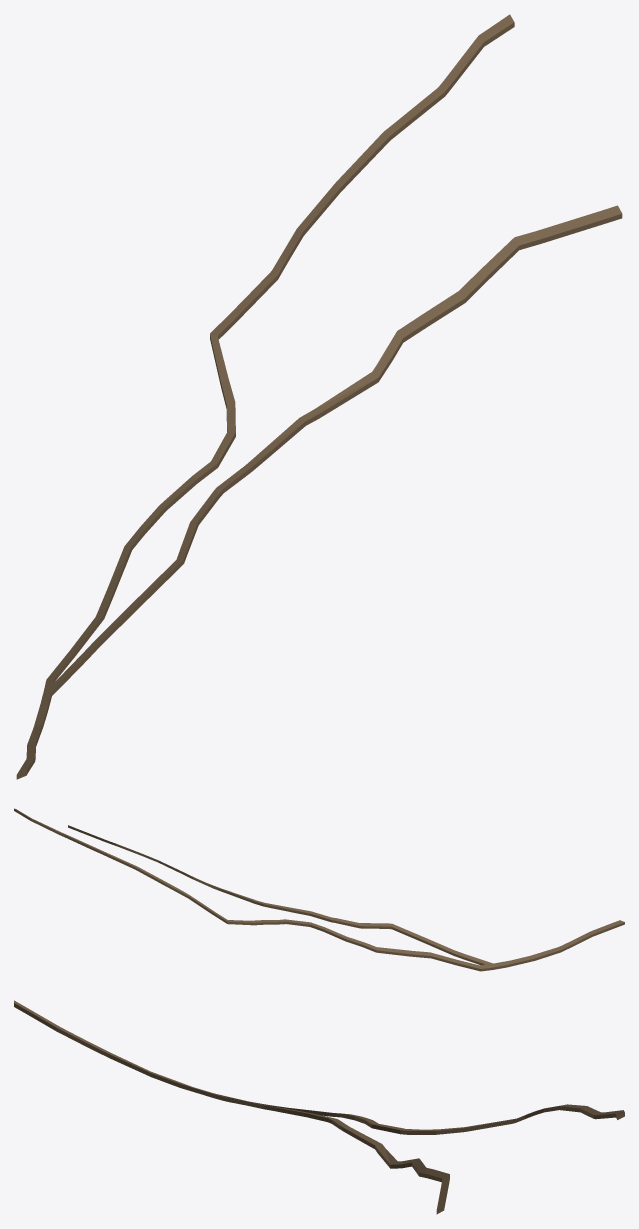
3 views of the same model, one above another, from view 1: azimuth 30°, elevation 25°; view 2: azimuth 150°, elevation 25°; view 3: azimuth 270°, elevation 25° (orthographic). The views are drawn at different scales.
Size of the model in its own units: 132 by 48.52 by 97.28.
